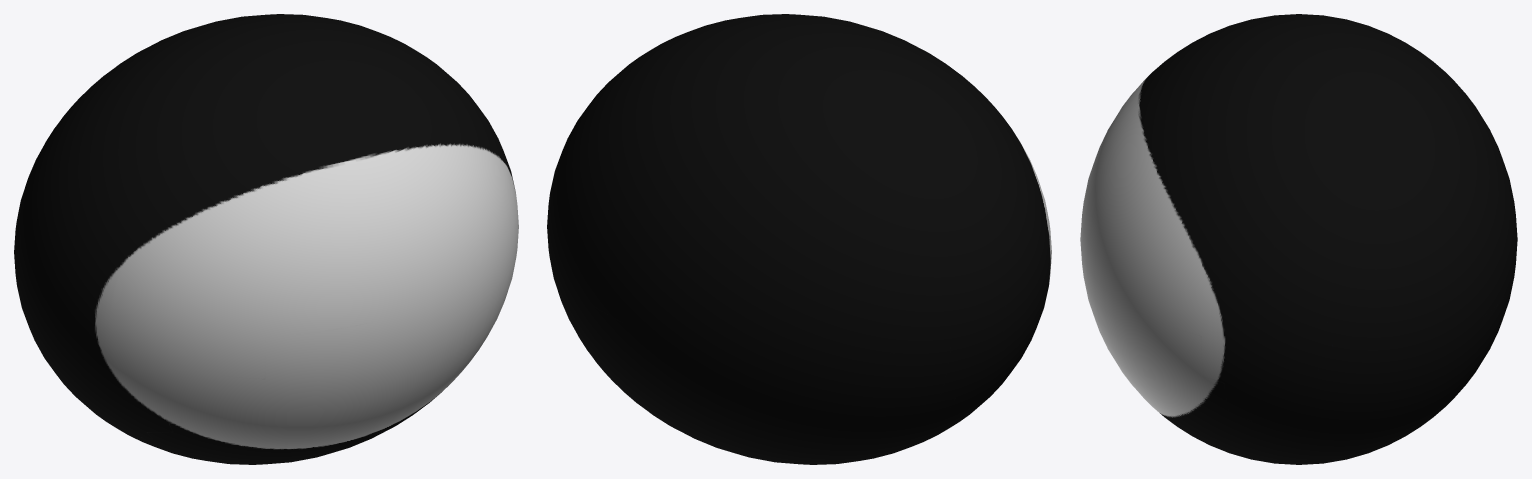
Rendered from casco.glb.
The picture shows the model from 3 angles, left to right: view 1: azimuth 30°, elevation 25°; view 2: azimuth 150°, elevation 25°; view 3: azimuth 270°, elevation 25°; orthographic projection. The views are drawn at different scales.
Parts seen in each view (by area): view 1: mesh_id29; view 2: mesh_id29; view 3: mesh_id29.
Part boxes in pixels (left/top/right/bottom): mesh_id29: left=14, top=14, right=518, bottom=464; mesh_id29: left=547, top=14, right=1051, bottom=464; mesh_id29: left=1080, top=14, right=1517, bottom=464.
Bounding box in the file's own units: 0.315 × 0.2697 × 0.2697.
Materials: 1 (1 with a texture image).
